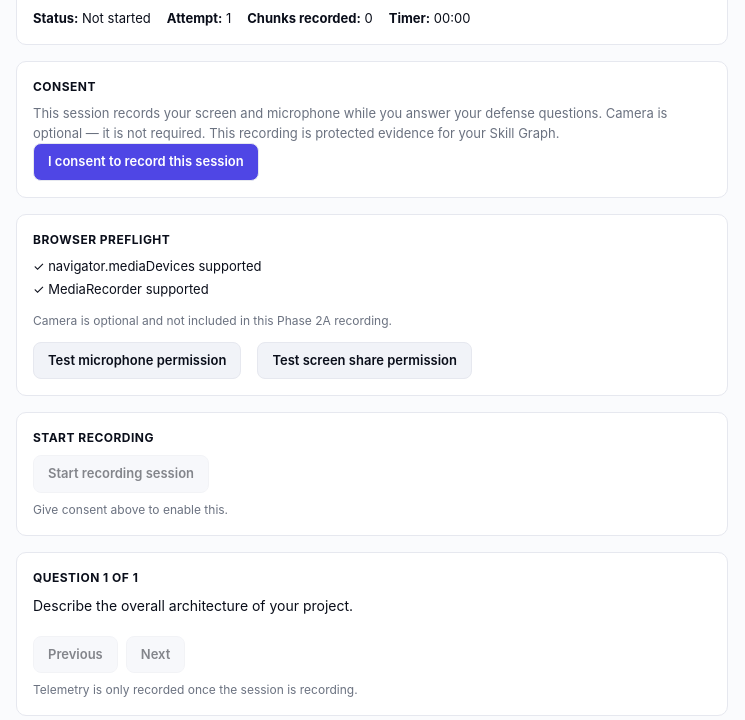
Scenario: ProjectDefenseRecordPage › shows a friendly permission-denied message for screen share without exposing storage internals
The image size is (745, 720).
(page scrolled)
Step 1. Click the button "Test screen share permission" → (365, 360), box [257,342,472,379]
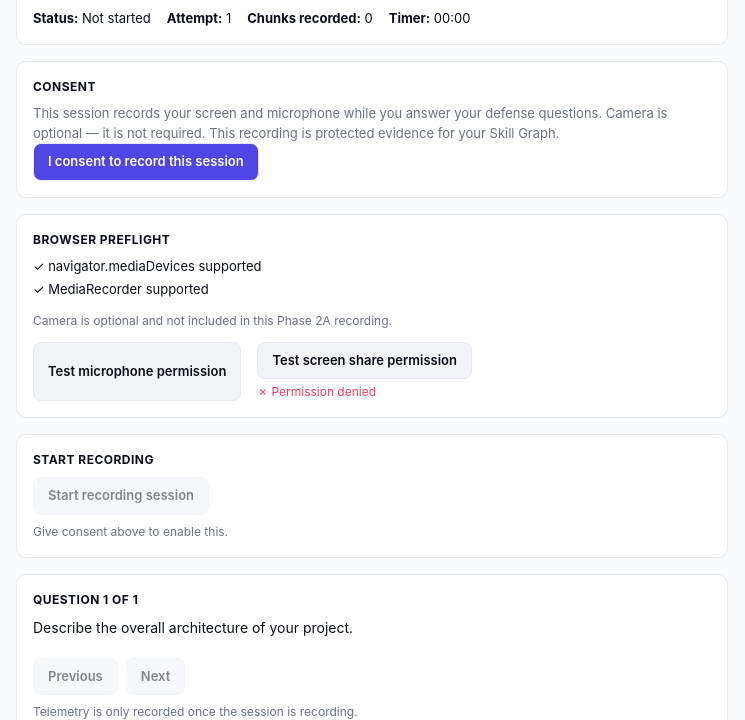
Check: the text "✗ Permission denied" is shown, box [257,384,376,399]
